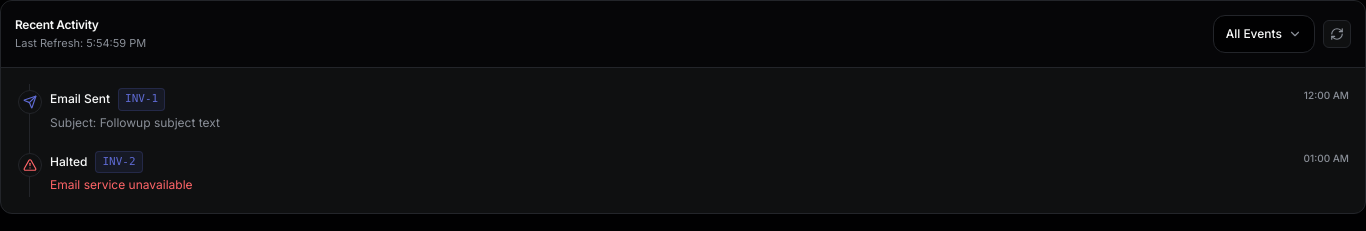
Test: ActivityFeed component › renders events feed list and applies classification filters
The width and height of the screenshot is (1366, 231).
Expected: the text "email sent" is shown, [50, 91, 110, 107]
Expected: the text "Subject: Followup subject text" is shown, [50, 114, 220, 130]
// Toggle filter select to errors only (which displays halted/errors)
Click the dropdown at x=1264, y=34, box [1213, 15, 1315, 53]
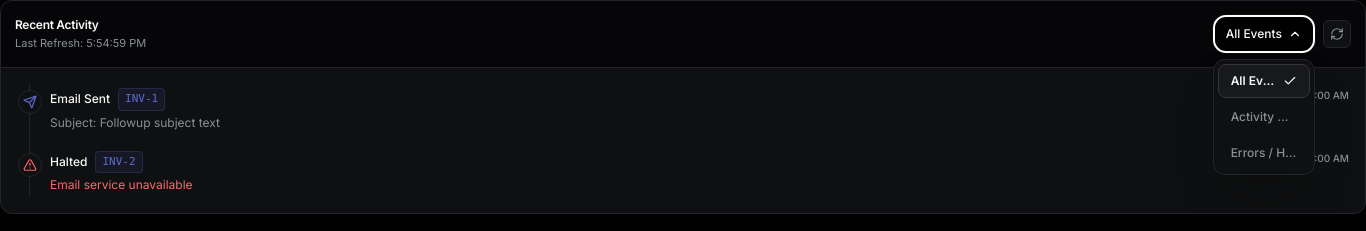
Click the button "Errors / Halted" at x=1264, y=153, box [1218, 136, 1310, 170]
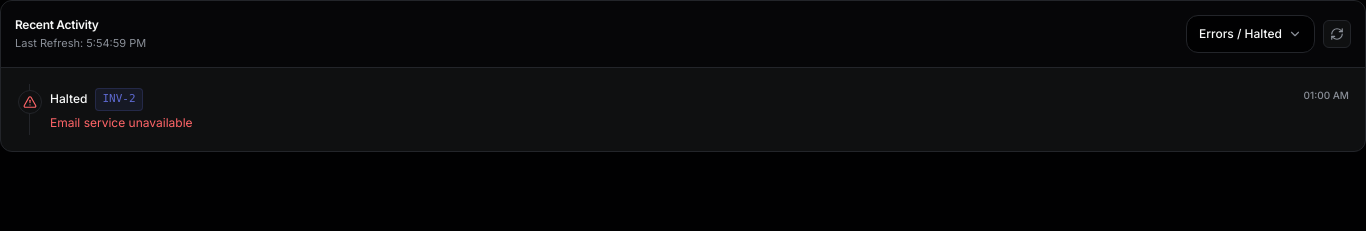
Expected: the text "halted" is shown, [50, 91, 87, 107]
Now the text "email sent" is gone
